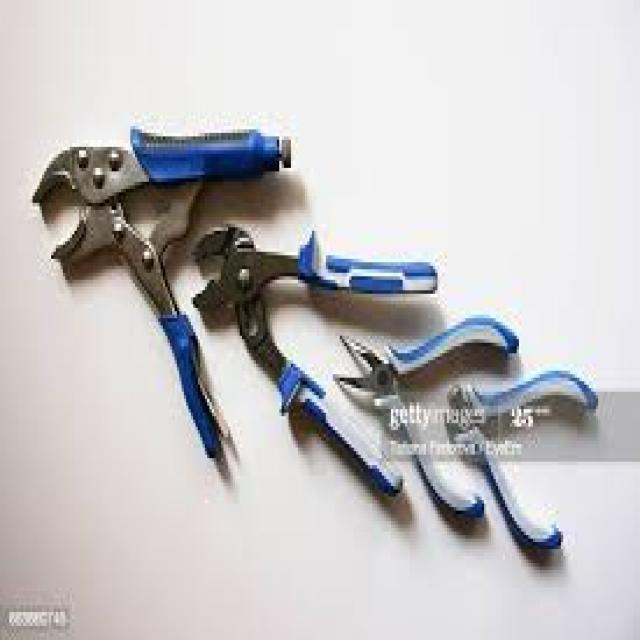pliers: (15, 132, 289, 484), (193, 223, 418, 492), (338, 320, 503, 515), (448, 362, 599, 566)
